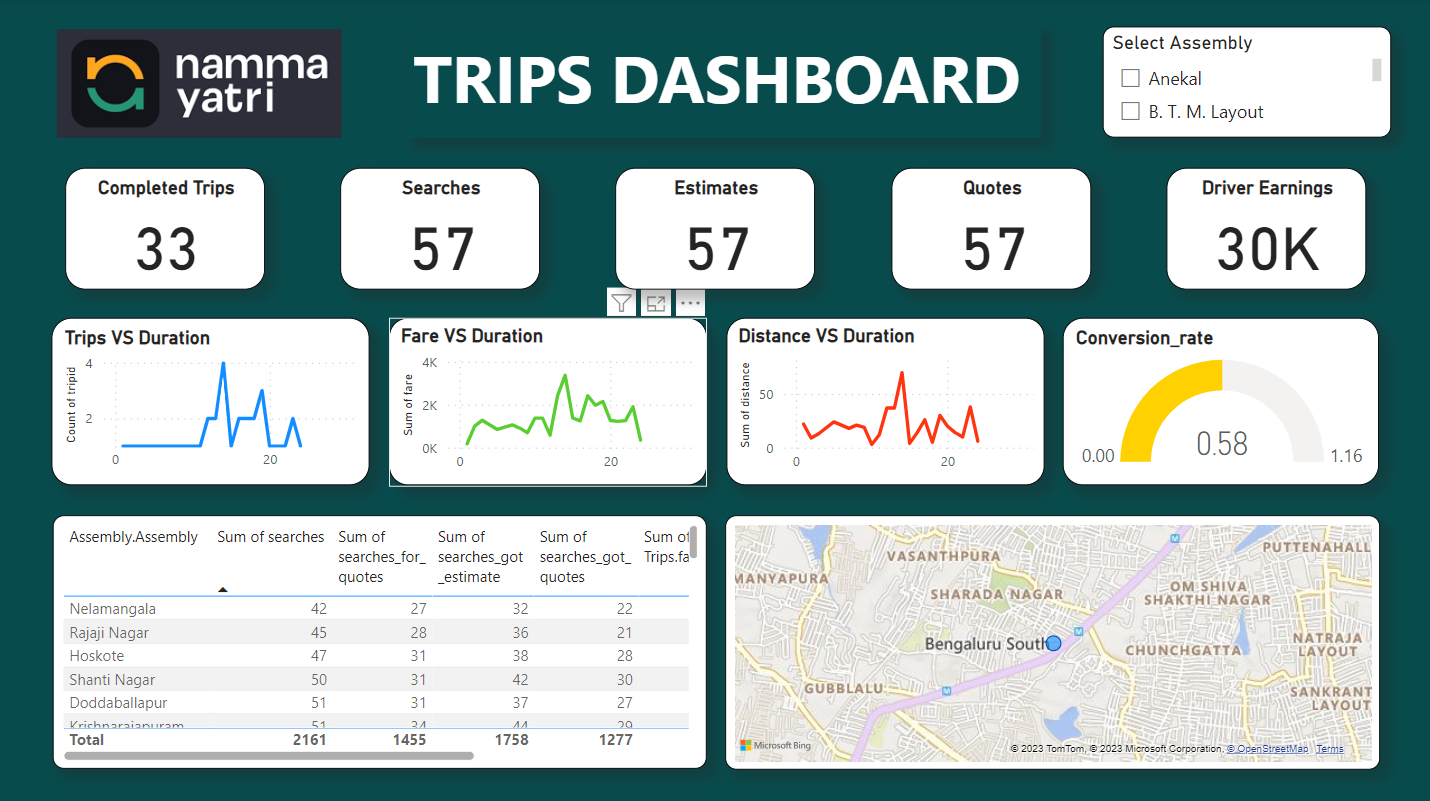

This screenshot's page, from the dashboard's own definition file:
{"tool":"powerbi","page":{"name":"Page 1","canvas":[1280,720],"ordinal":0},"visuals":[{"type":"card","title":"Completed Trips","fields":{"Values":["Sum(Trip_details.end_ride)"]},"box":[59.2,150.7,178.8,108.7],"z":0,"group":"g1"},{"type":"card","title":"Searches","fields":{"Values":["Sum(Trip_details.searches)"]},"box":[305,150.7,178.8,108.7],"z":1000,"group":"g1"},{"type":"card","title":"Estimates","fields":{"Values":["CountNonNull(Trip_details.searches_got_estimate)"]},"box":[550.9,150.7,178.8,108.7],"z":2000,"group":"g1"},{"type":"card","title":"Quotes","fields":{"Values":["CountNonNull(Trip_details.searches_got_quotes)"]},"box":[796.7,150.7,178.8,108.7],"z":3000,"group":"g1"},{"type":"card","title":"Driver Earnings","fields":{"Values":["Sum(Trips.fare)"]},"box":[1042.5,150.7,178.8,108.7],"z":4000,"group":"g1"},{"type":"gauge","fields":{"Y":["Trip_details.Conversion_rate"]},"box":[950.5,285.1,282.7,149.8],"z":5000},{"type":"lineChart","title":"Trips VS Duration","fields":{"Category":["Trips.duration"],"Y":["CountNonNull(Trips.tripid)"]},"box":[46.9,285.1,283.9,149.8],"z":6000},{"type":"lineChart","title":"Distance VS Duration","fields":{"Category":["Trips.duration"],"Y":["Sum(Trips.distance)"]},"box":[649.3,285.1,283.9,149.8],"z":7000},{"type":"lineChart","title":"Fare VS Duration","fields":{"Category":["Trips.duration"],"Y":["Sum(Trips.fare)"]},"box":[348.1,285.1,283.9,149.8],"z":8000},{"type":"tableEx","fields":{"Values":["Merge2.Assembly.Assembly","Sum(Merge2.searches)","Sum(Merge2.searches_for_quotes)","Sum(Merge2.searches_got_estimate)","Sum(Merge2.searches_got_quotes)","Sum(Merge2.Trips.fare)","Sum(Merge2.Trips.distance)","Trip_details.Conversion_rate"]},"box":[48,461,583.8,226.6],"z":9000},{"type":"map","fields":{"X":["Avg(Merge2.tripid)"],"Category":["Merge2.Assembly.Assembly"]},"box":[648.7,461.5,584.7,227.1],"z":9004},{"type":"group","id":"g1","title":"Group 1","box":[59.2,150.7,1162,108.3],"z":9005},{"type":"textbox","box":[365.2,24.9,565.5,99.6],"z":9006},{"type":"image","box":[47.4,0,264.4,150.6],"z":9008},{"type":"slicer","title":"Select Assembly","fields":{"Values":["Merge2.Assembly.Assembly"]},"box":[985.3,24.9,257.3,99.6],"z":9009}]}

Visuals, with their boxes in screenshot pixels (x1, y1, x2, y2), scaled from the page's 1280x720 canvas onto the 1430x801 screenshot:
"Completed Trips" card: x1=66 y1=168 x2=266 y2=289
"Searches" card: x1=341 y1=168 x2=540 y2=289
"Estimates" card: x1=615 y1=168 x2=815 y2=289
"Quotes" card: x1=890 y1=168 x2=1090 y2=289
"Driver Earnings" card: x1=1165 y1=168 x2=1364 y2=289
gauge - Trip_details.Conversion_rate: x1=1062 y1=317 x2=1378 y2=484
"Trips VS Duration" lineChart: x1=52 y1=317 x2=370 y2=484
"Distance VS Duration" lineChart: x1=725 y1=317 x2=1043 y2=484
"Fare VS Duration" lineChart: x1=389 y1=317 x2=706 y2=484
tableEx - Merge2.Assembly.Assembly x Sum(Merge2.searches): x1=54 y1=513 x2=706 y2=765
map - Avg(Merge2.tripid) x Merge2.Assembly.Assembly: x1=725 y1=513 x2=1378 y2=766
"Group 1" group: x1=66 y1=168 x2=1364 y2=288
textbox: x1=408 y1=28 x2=1040 y2=139
image: x1=53 y1=0 x2=348 y2=168
"Select Assembly" slicer: x1=1101 y1=28 x2=1388 y2=139
